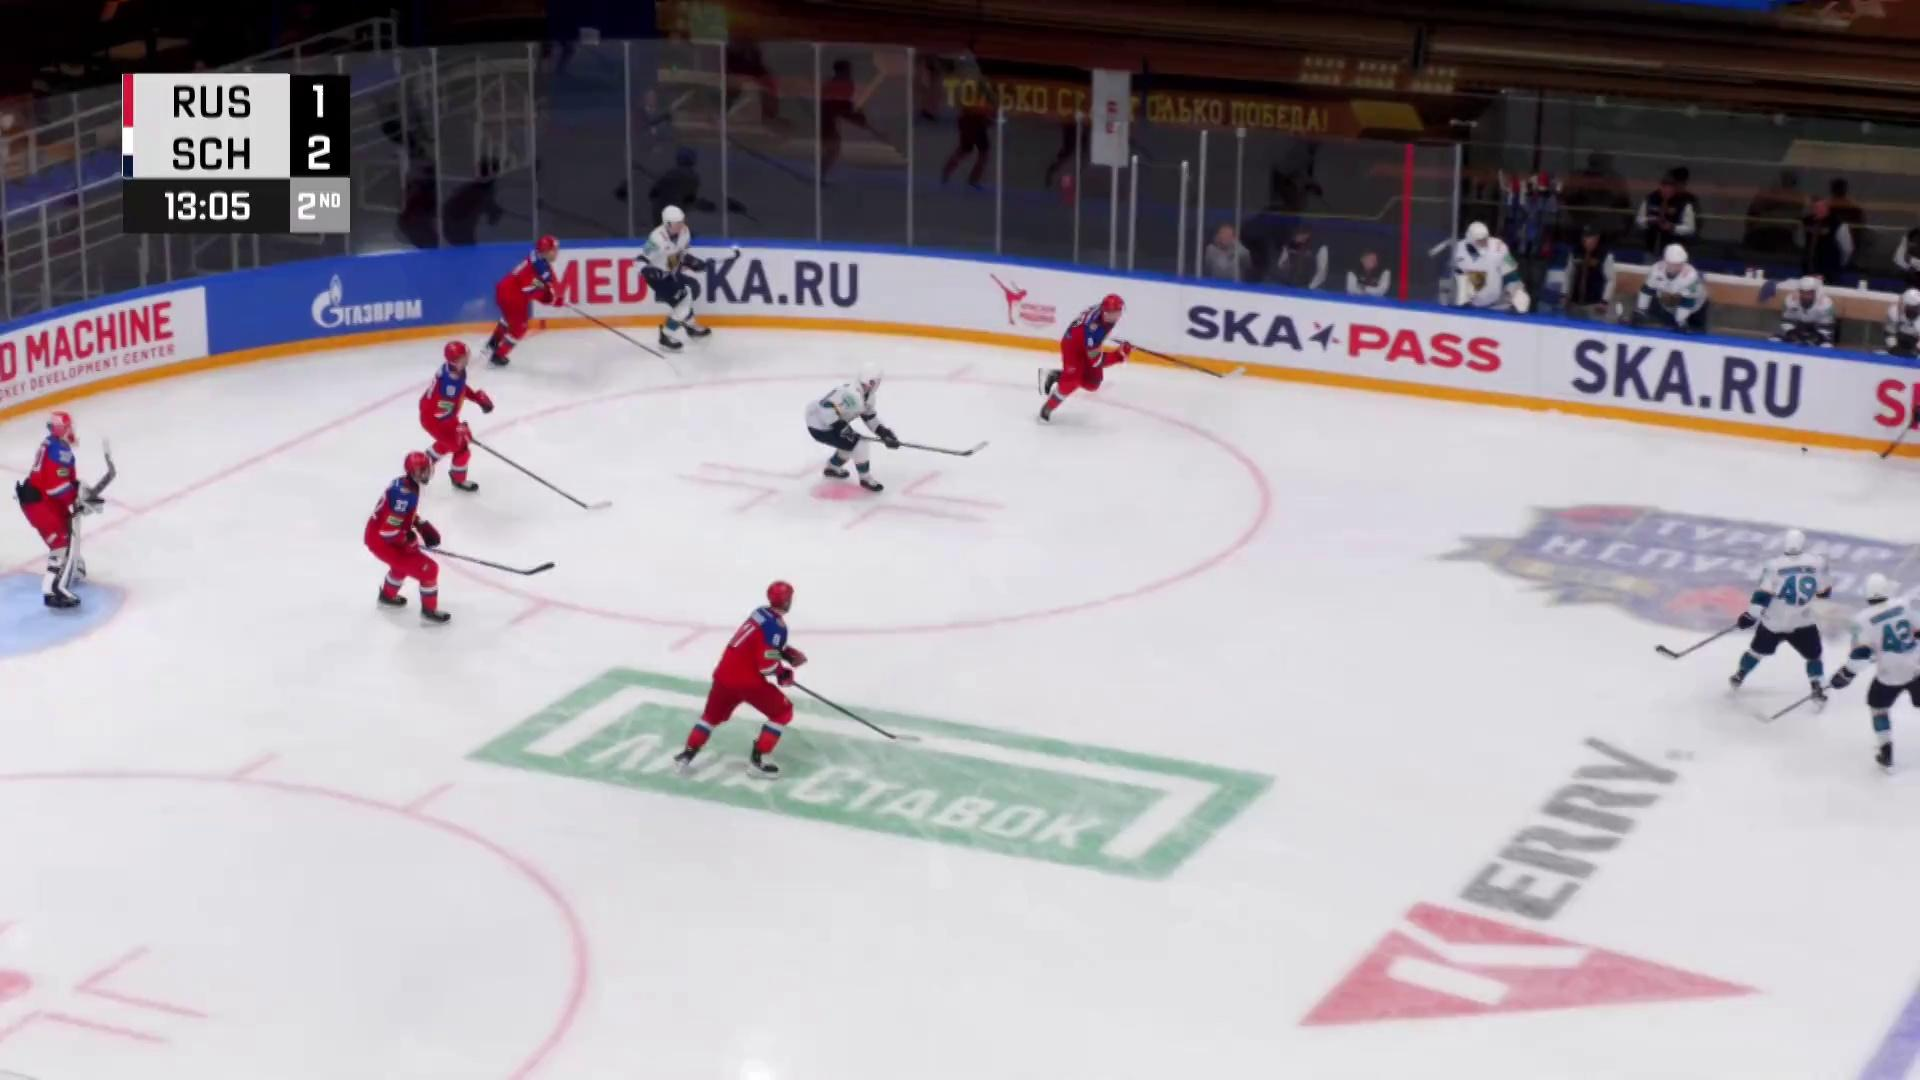ball: (1799, 446, 1809, 454)
